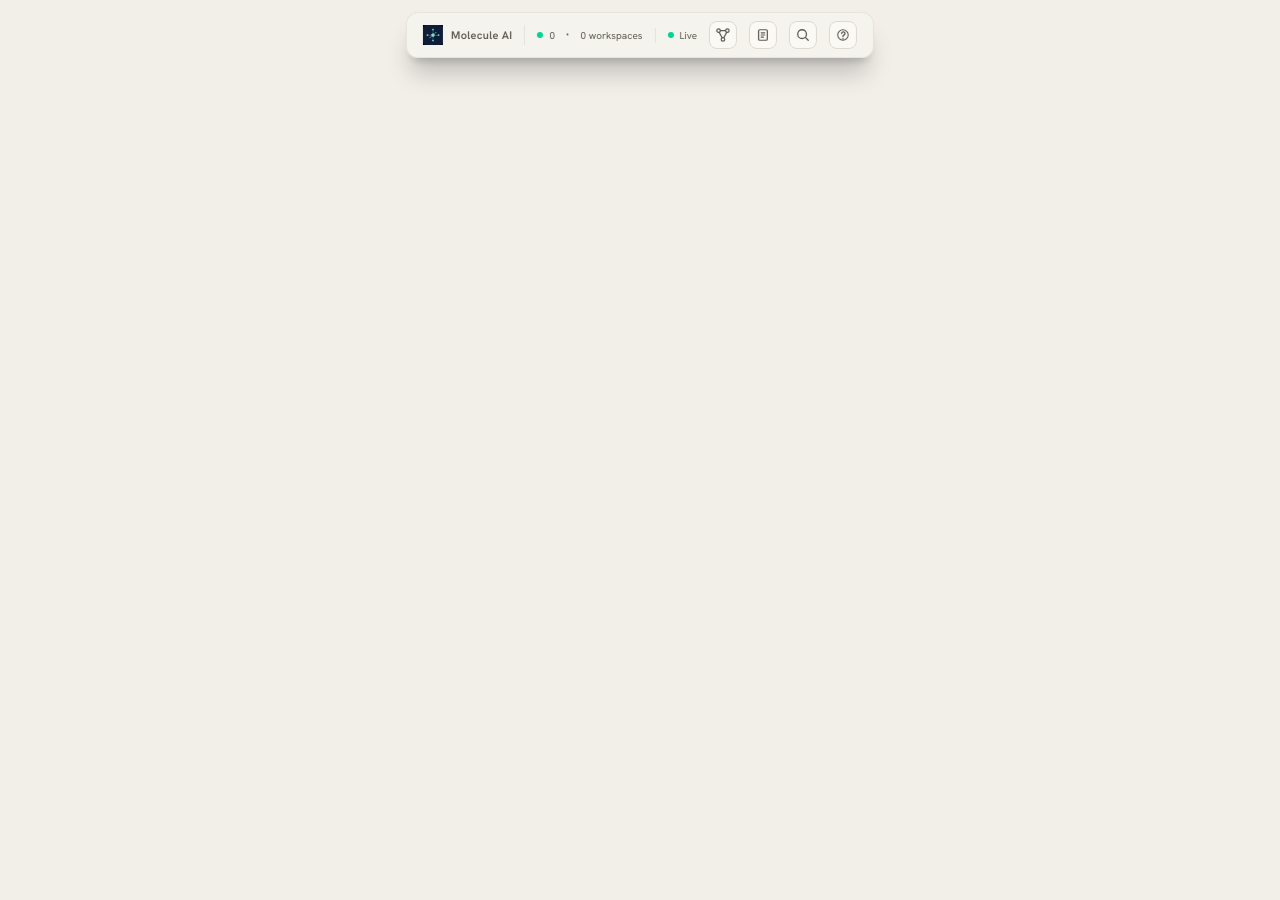
Test: Toolbar — Help popover › opens when help button is clicked
Click the button named "open shortcuts and tips" at (843, 35), box [829,21,857,49]
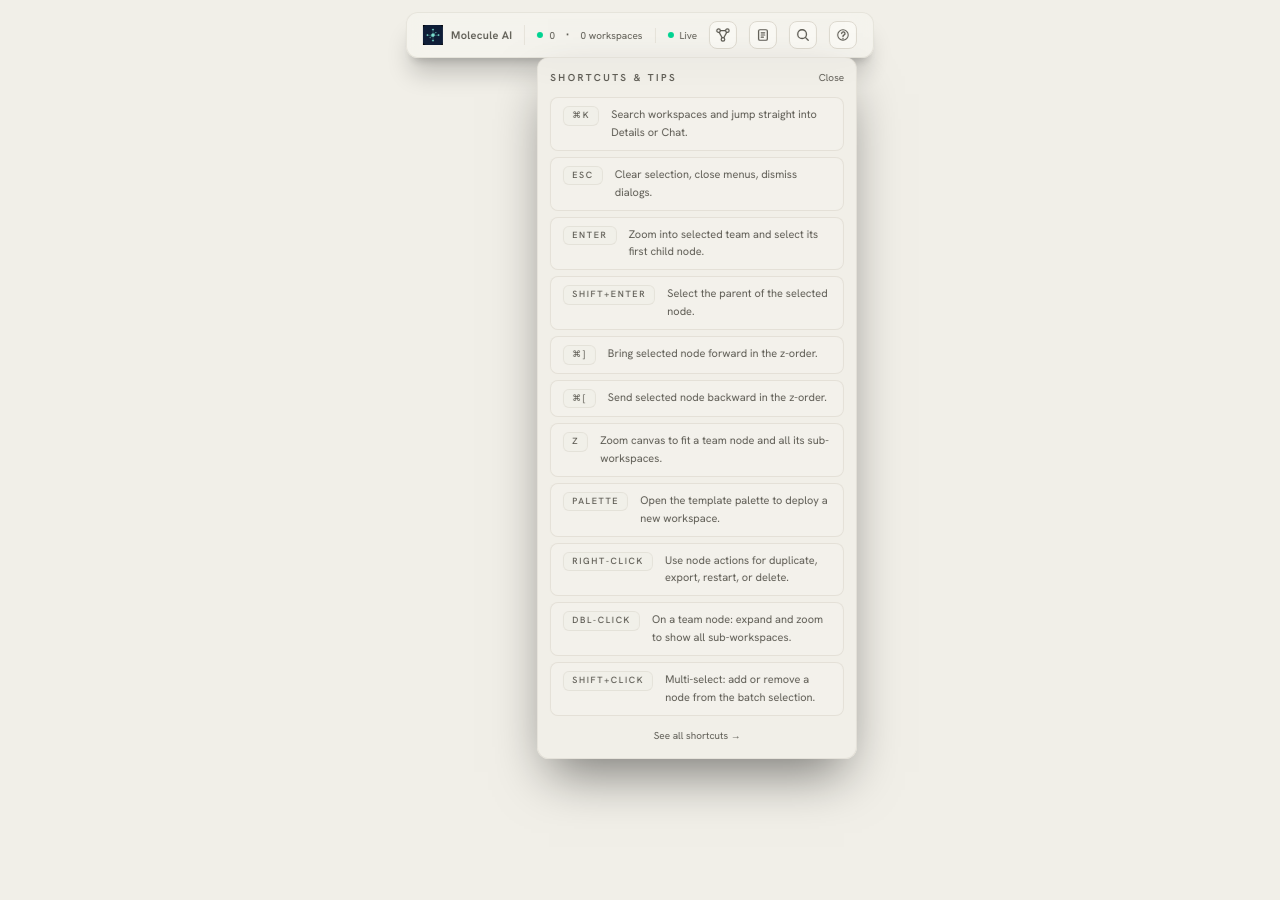
Expected: the dialog is shown, [537,57,857,759]
